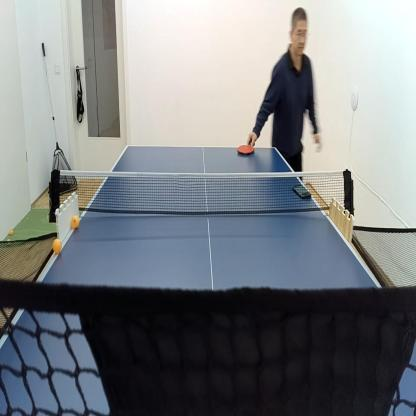Ball: (53, 238, 62, 254), (71, 216, 80, 229), (9, 228, 13, 236), (7, 237, 11, 245)
